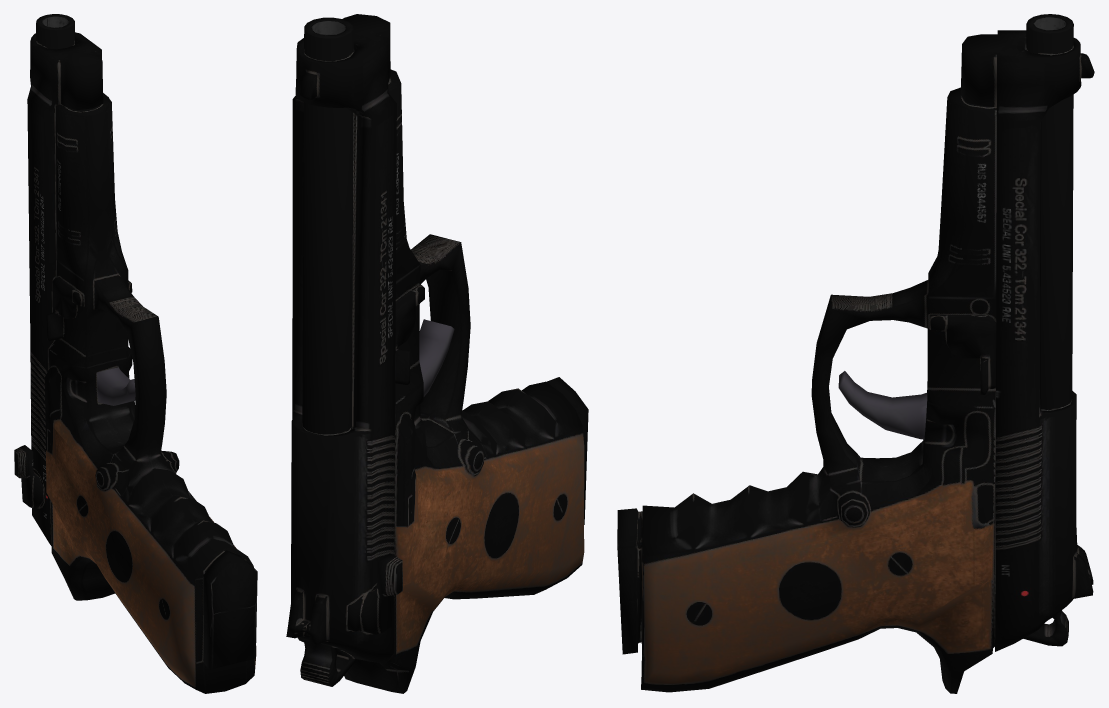
The model's file is handgun.FBX.
The picture shows the model from 3 angles, left to right: view 1: azimuth 30°, elevation 25°; view 2: azimuth 150°, elevation 25°; view 3: azimuth 270°, elevation 25°; orthographic projection. The views are drawn at different scales.
Visible parts, largest first — view 1: hand_gun_hand; view 2: hand_gun_hand; view 3: hand_gun_hand.
Part boxes in pixels (x1=…): hand_gun_hand: x1=14, y1=14, x2=257, y2=693; hand_gun_hand: x1=286, y1=14, x2=588, y2=693; hand_gun_hand: x1=617, y1=14, x2=1094, y2=693.
Bounding box in the file's own units: 3.69 × 22.19 × 14.55.
1 material, 1 textured.
